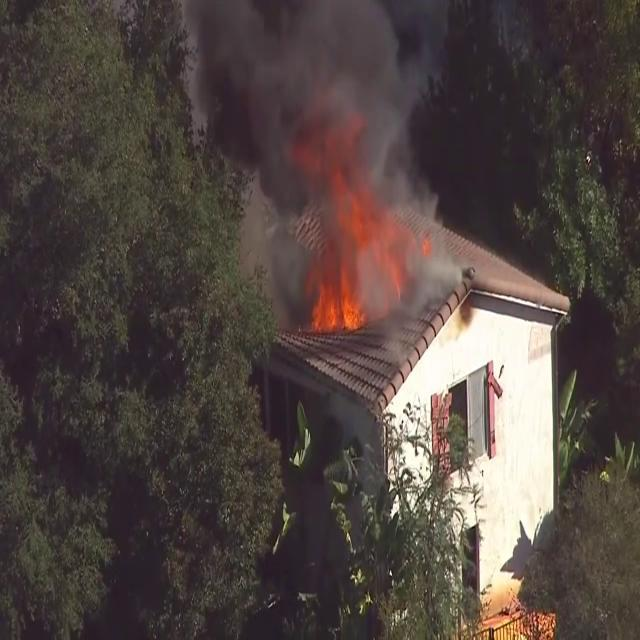Fire: (307, 272, 363, 338)
Smoke: (177, 0, 452, 325)
